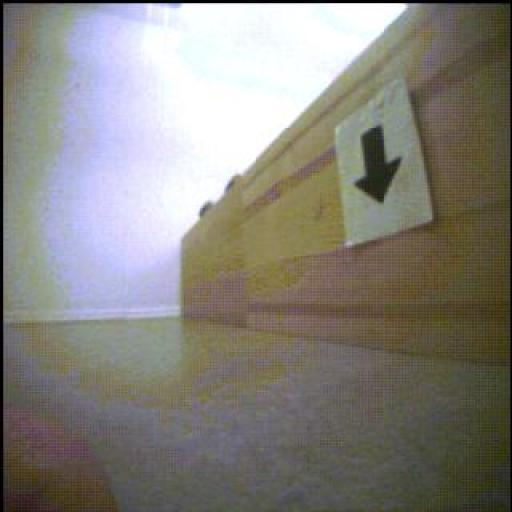arrow: (356, 128, 403, 205)
